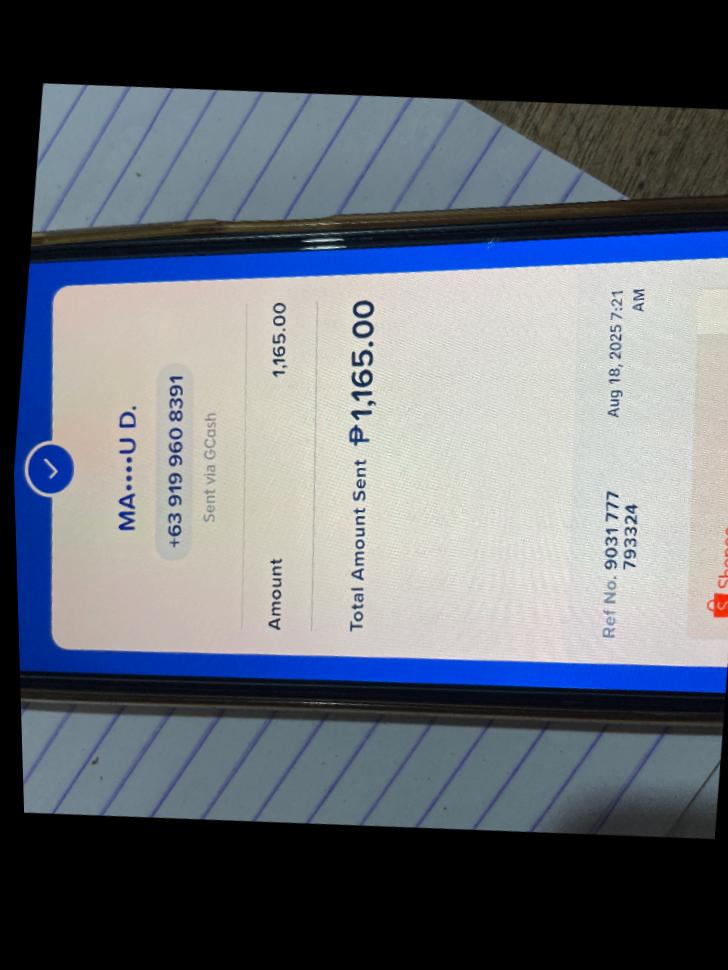Receipt: (14, 230, 728, 693)
